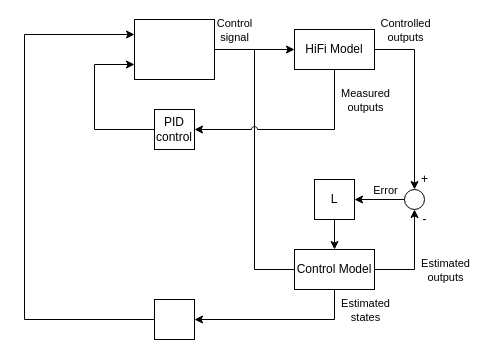
Image size: 487x357. Some labels were removed from this diagram. Each missing label, with the centre of its shape:
"LQR" belongs at (174,319).
"Switch from PID to LQR at t=1hour" belongs at (174,49).
